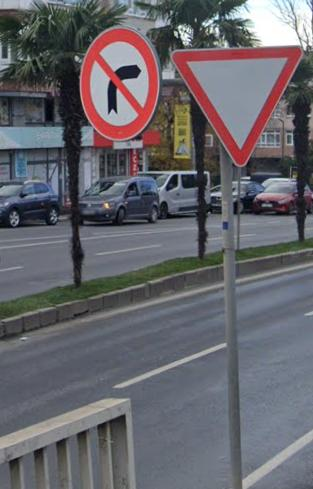leftturnsareforbidden: (83, 29, 160, 140)
